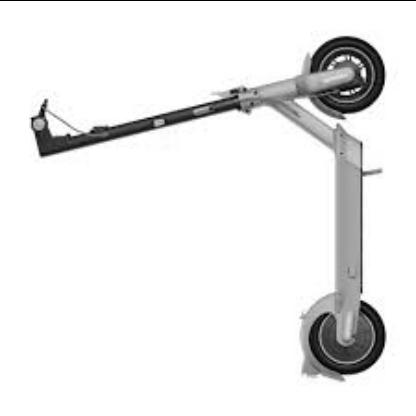bike: (10, 37, 389, 390)
